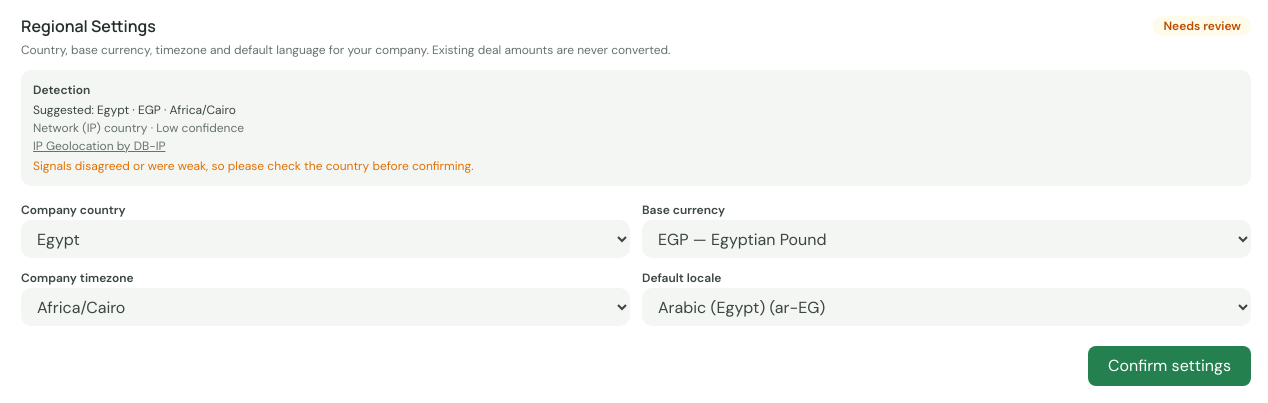
Test: RegionalSettingsSection › selecting another country re-fills currency, timezone and locale defaults
This screenshot has width=1268, height=403.
Step 1. Select "Kuwait" in the dropdown labelled "Company country" → (326, 239), box [21, 220, 630, 258]
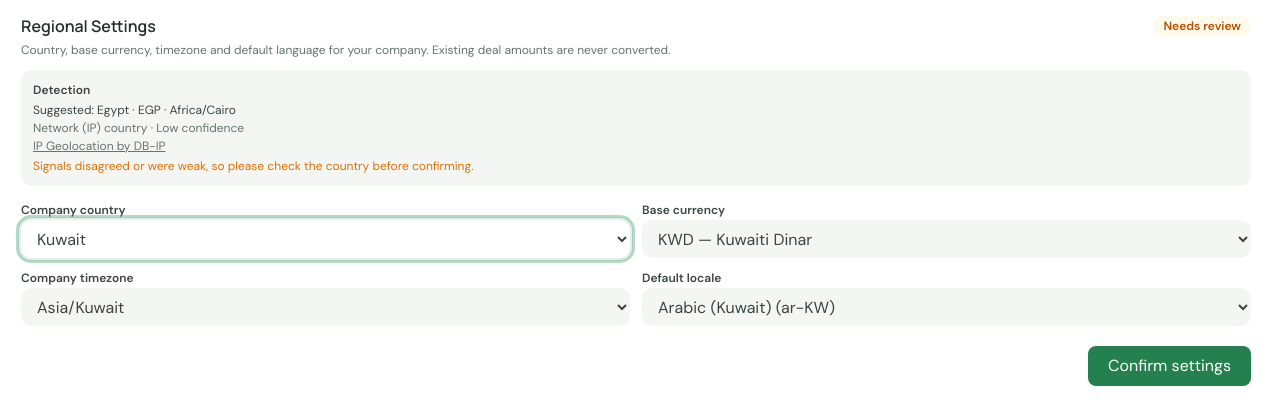
Now the dropdown labelled "Base currency" shows "KWD — Kuwaiti Dinar", box [642, 220, 1251, 258]
Now the dropdown labelled "Company timezone" shows "Asia/Kuwait", box [21, 288, 630, 326]
Now the dropdown labelled "Default locale" shows "Arabic (Kuwait) (ar-KW)", box [642, 288, 1251, 326]
